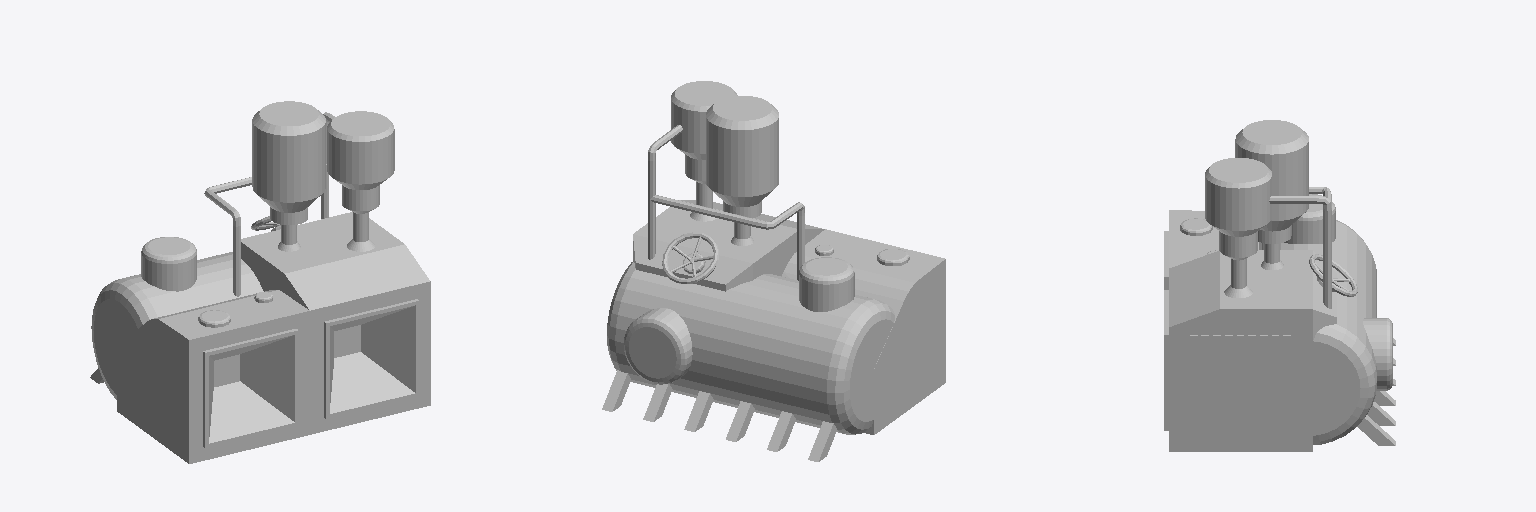
Rendered from PlasticRecycler.obj.
3 renders of one model, left to right at view 1: azimuth 30°, elevation 25°; view 2: azimuth 150°, elevation 25°; view 3: azimuth 270°, elevation 25°, orthographic.
Visible parts, largest first — view 1: Cube, Cylinder.005, Cylinder, Cylinder.006, Cylinder.004, Cylinder.012; view 2: Cylinder, Cube, Cylinder.005, Cylinder.009, Cube.002, Cylinder.006, Cylinder.004, Cylinder.012, Cylinder.011, Cylinder.010; view 3: Cube, Cylinder, Cube.001, Cylinder.006, Cylinder.005, Cylinder.009, Cylinder.010, Cube.002, Cylinder.004, Cylinder.011.
Boxes of the visible parts, box(x1,y1,x2,y2) form: Cube: box(117, 212, 430, 463); Cylinder.005: box(252, 101, 325, 251); Cylinder: box(91, 252, 263, 399); Cylinder.006: box(327, 111, 394, 251); Cylinder.004: box(141, 237, 196, 291); Cylinder.012: box(204, 164, 326, 296); Cylinder: box(607, 261, 894, 434); Cube: box(633, 200, 945, 434); Cylinder.005: box(706, 96, 778, 245); Cylinder.009: box(624, 308, 692, 384); Cube.002: box(602, 370, 836, 461); Cylinder.006: box(671, 81, 737, 221); Cylinder.004: box(799, 257, 854, 311); Cylinder.012: box(650, 195, 804, 280); Cylinder.011: box(662, 232, 718, 283); Cylinder.010: box(648, 125, 682, 259); Cube: box(1164, 210, 1336, 451); Cylinder: box(1259, 220, 1376, 444); Cube.001: box(1190, 335, 1290, 438); Cylinder.006: box(1205, 158, 1271, 297); Cylinder.005: box(1235, 120, 1308, 269); Cylinder.009: box(1363, 318, 1392, 390); Cylinder.010: box(1269, 196, 1331, 308); Cube.002: box(1357, 338, 1395, 445); Cylinder.004: box(1284, 194, 1335, 243); Cylinder.011: box(1309, 254, 1357, 296).
Size of the model in its own units: 2.7 by 2.91 by 2.22.